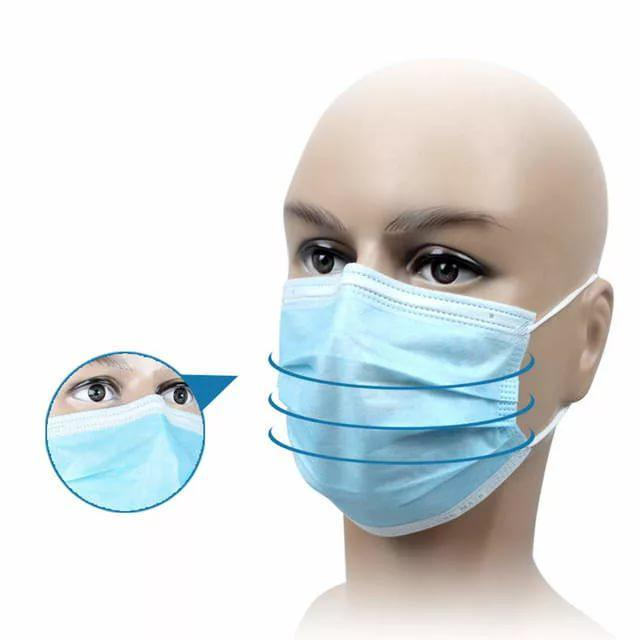mask: (263, 143, 581, 538)
